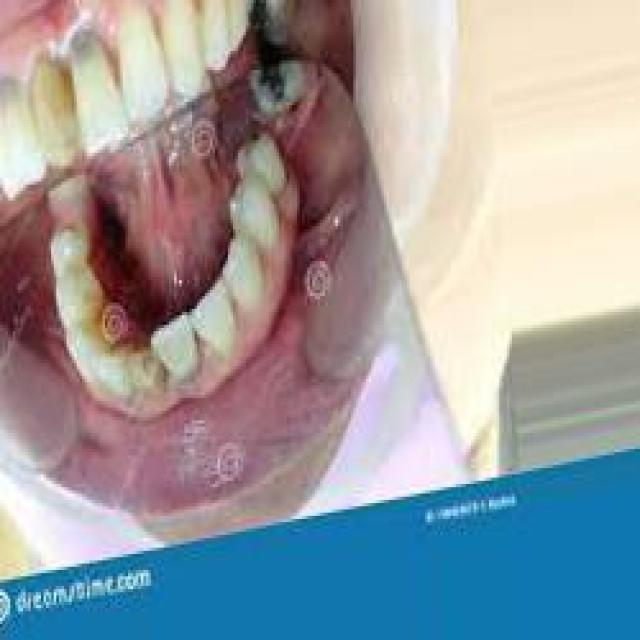caries: (250, 58, 300, 119), (125, 336, 169, 398), (240, 0, 292, 50)
